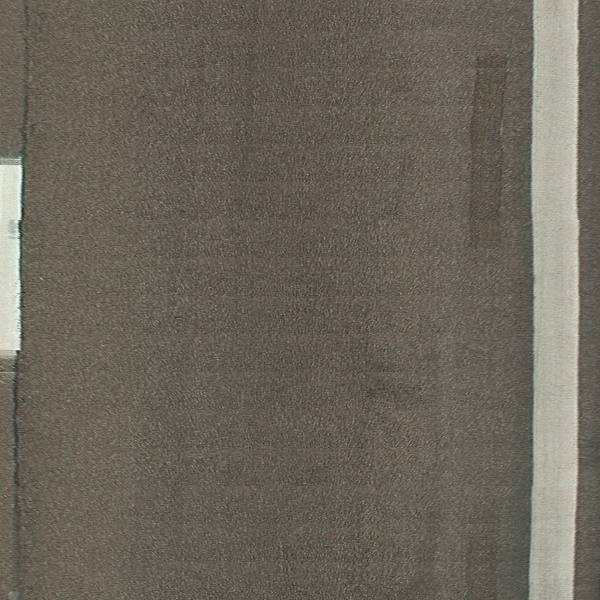road_damage: (13, 43, 33, 208)
